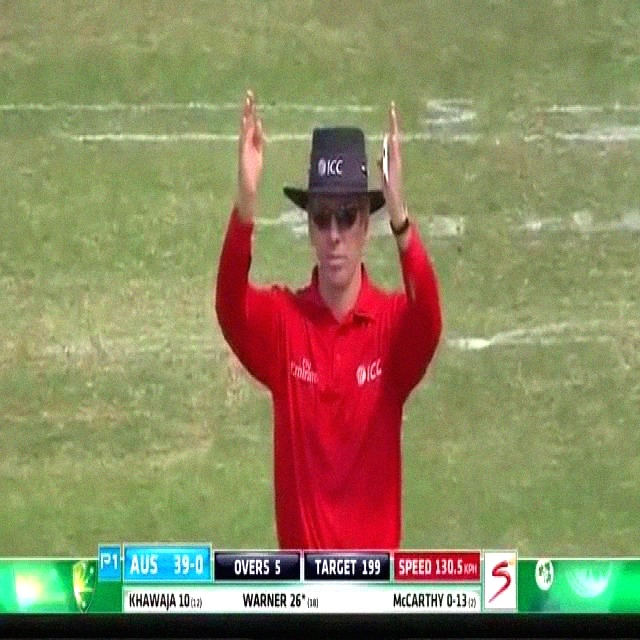Six: (209, 75, 447, 557)
